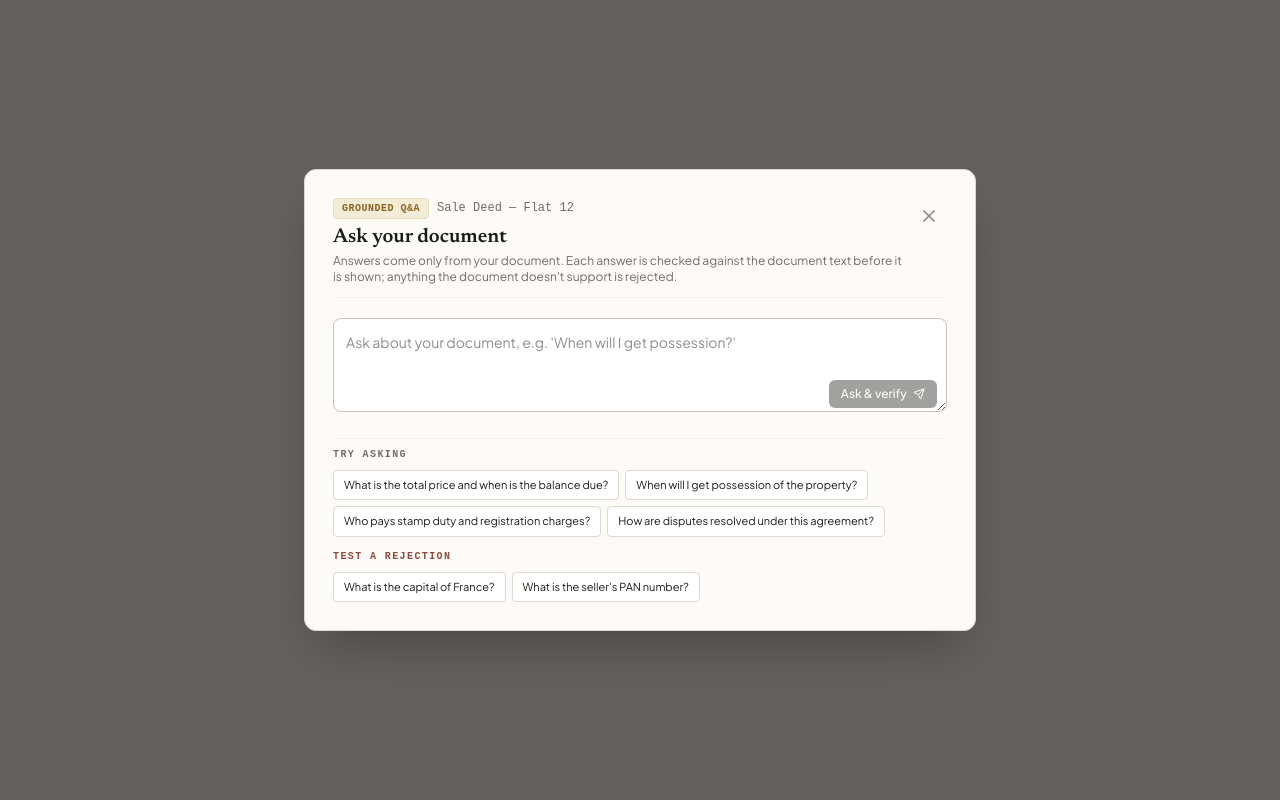
Test: AskQuestionModal (grounded Q&A) › shows a server error as an alert
Step 1. Type "Anything" into the text box named "Your question" → (640, 365), box top-left (333, 318), bottom-right (947, 412)
Then press Enter
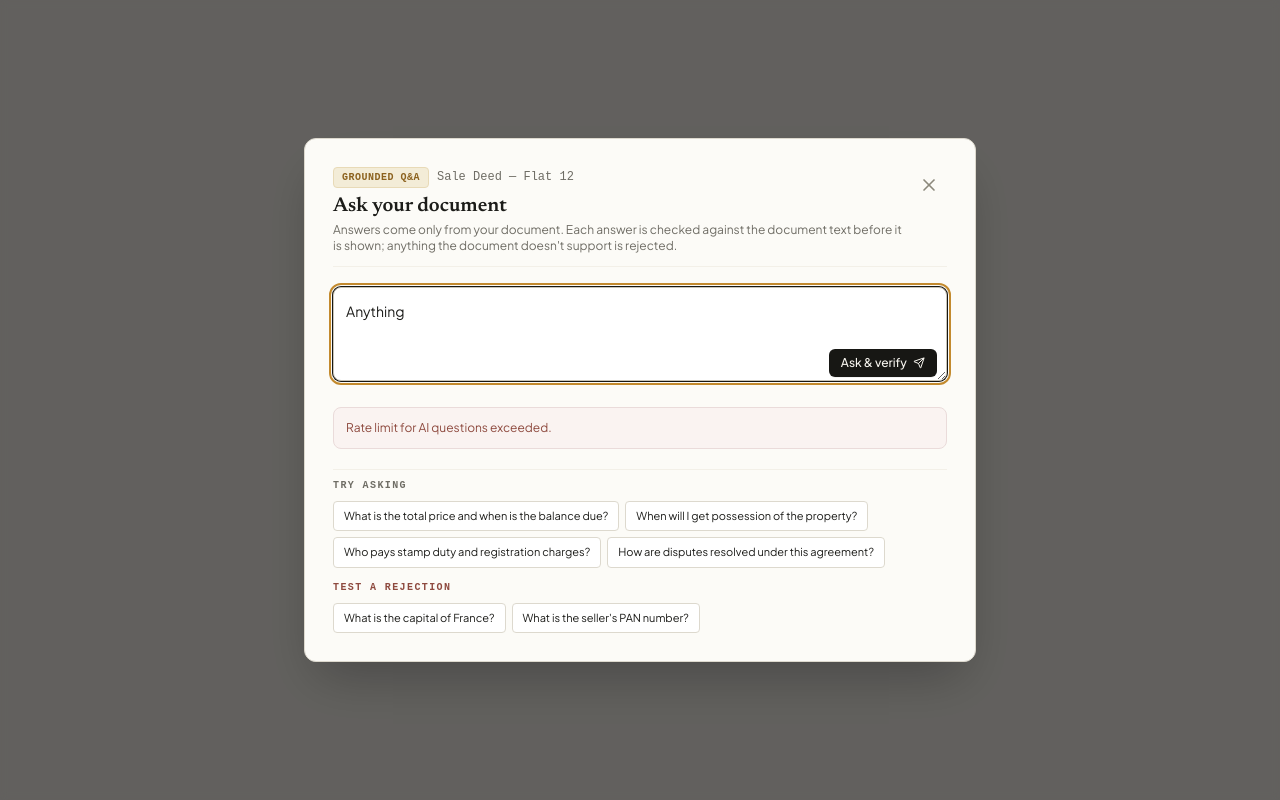
Expected: the message reads "Rate limit for AI questions exceeded.", top-left (346, 420), bottom-right (552, 435)
